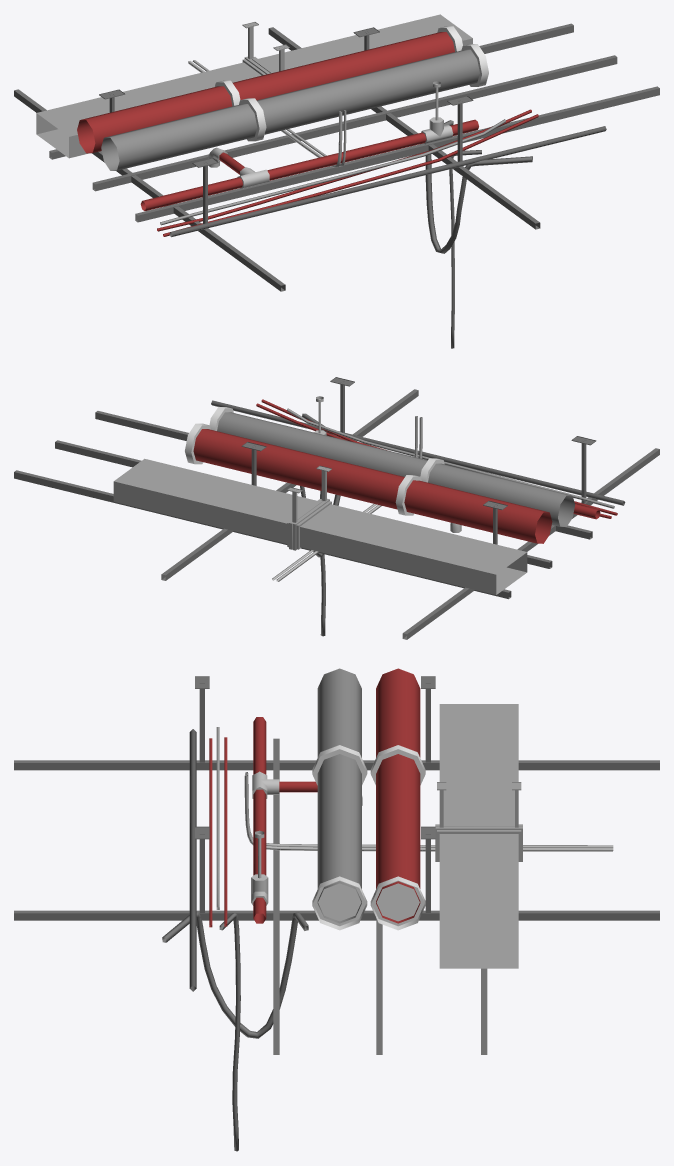
The picture shows the model from 3 angles, top to bottom: view 1: azimuth 30°, elevation 25°; view 2: azimuth 150°, elevation 25°; view 3: azimuth 270°, elevation 25°; orthographic projection. The views are drawn at different scales.
Parts seen in each view (by area): view 1: SM_H_Building_FutureTech_CtControl_01_InterWall_12A; view 2: SM_H_Building_FutureTech_CtControl_01_InterWall_12A; view 3: SM_H_Building_FutureTech_CtControl_01_InterWall_12A.
Part boxes in pixels (<box>): SM_H_Building_FutureTech_CtControl_01_InterWall_12A: <box>14,14,659,348</box>; SM_H_Building_FutureTech_CtControl_01_InterWall_12A: <box>14,377,659,639</box>; SM_H_Building_FutureTech_CtControl_01_InterWall_12A: <box>14,668,659,1151</box>.
Size of the model in its own units: 127 by 144 by 68.3.
